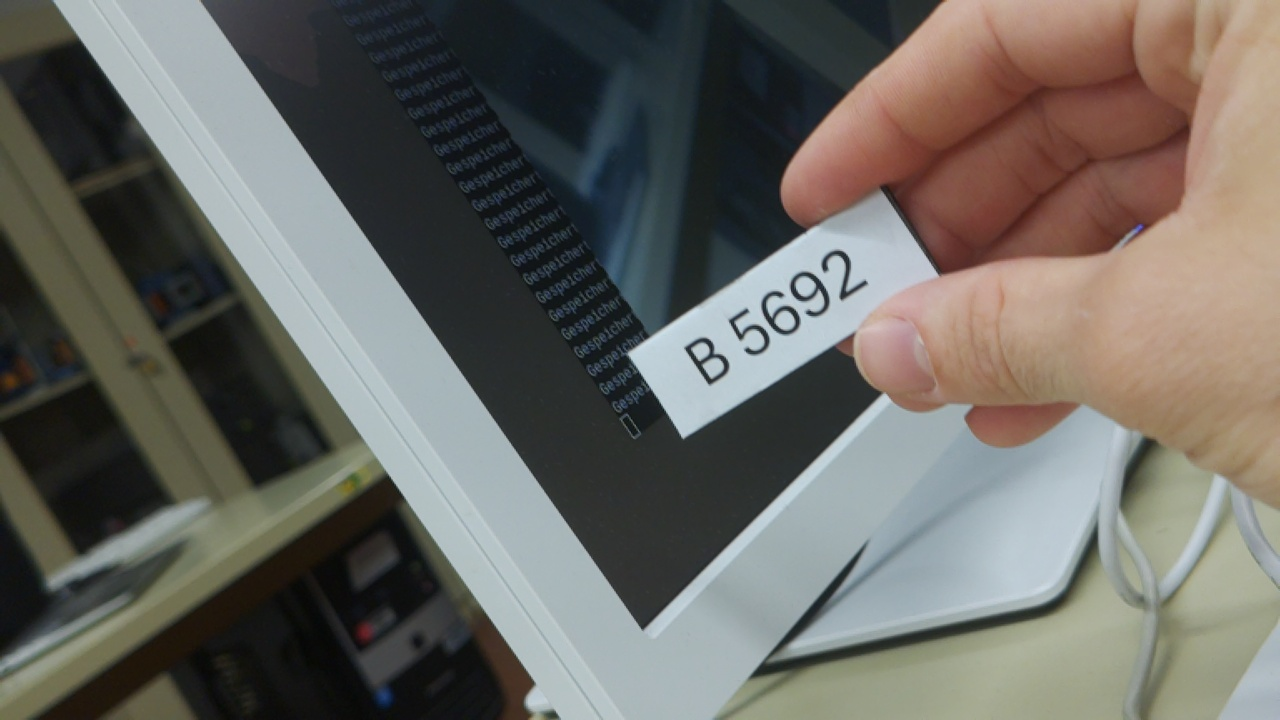license_plate: (622, 179, 962, 452), (779, 153, 787, 176)
